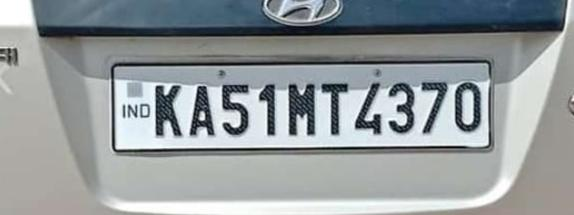0: (452, 80, 485, 136)
1: (257, 76, 280, 140)
3: (386, 75, 415, 139)
4: (355, 76, 386, 137)
5: (219, 78, 251, 138)
7: (418, 76, 449, 143)
A: (185, 81, 216, 140)
K: (152, 80, 183, 140)
M: (282, 79, 320, 142)
T: (318, 75, 352, 136)
